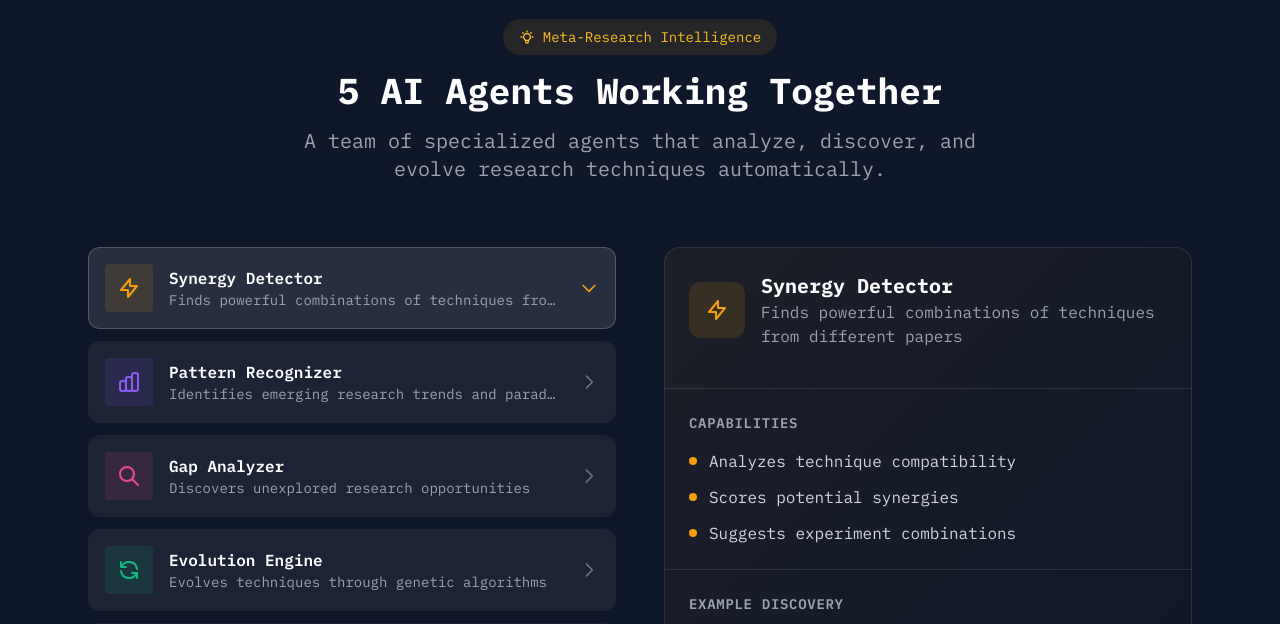
Test: MetaAgentFeature › Example Discoveries › should show example discovery for each agent
Note: Switch to Pattern Recognizer
Click the button "Pattern Recognizer": {"x": 352, "y": 382} [88, 341, 616, 423]
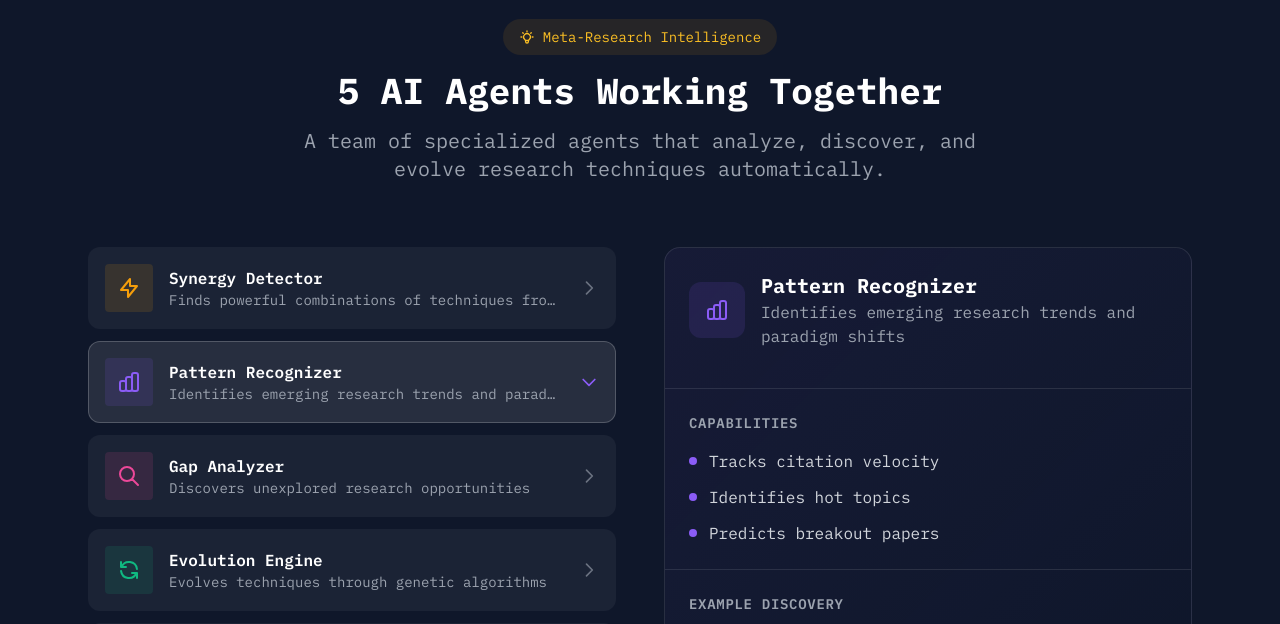
Note: Switch to Gap Analyzer
Click the button "Gap Analyzer": {"x": 352, "y": 476} [88, 435, 616, 517]
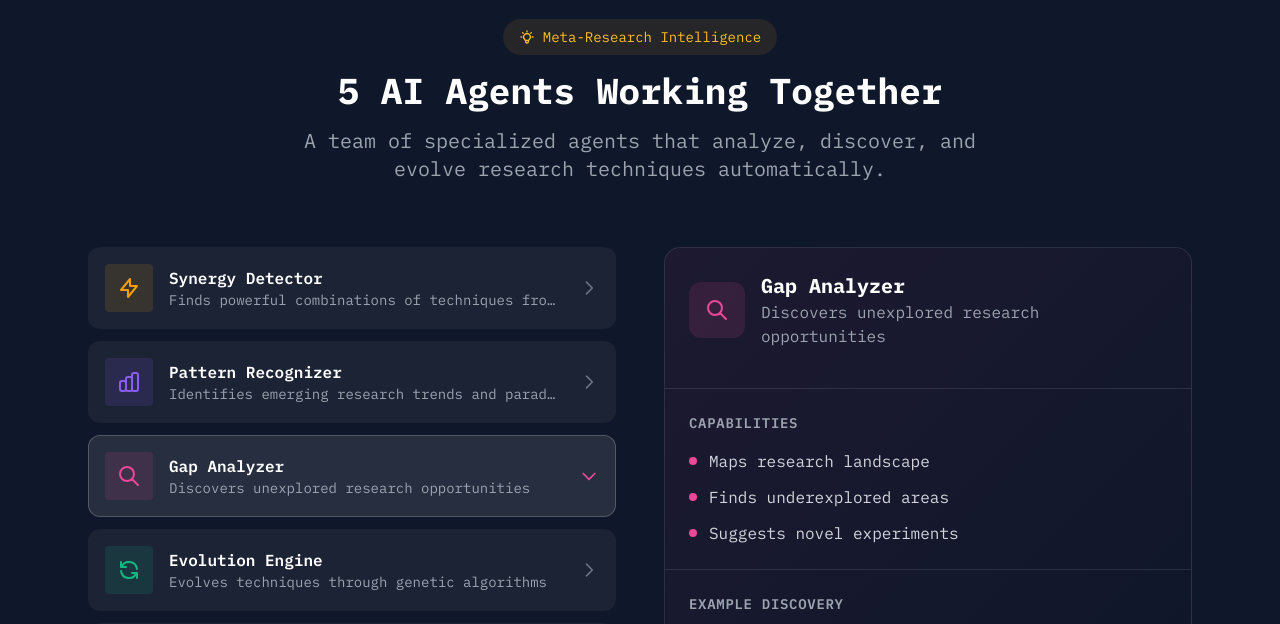
Note: Switch to Evolution Engine
Click the button "Evolution Engine": {"x": 352, "y": 570} [88, 529, 616, 611]
(page scrolled)
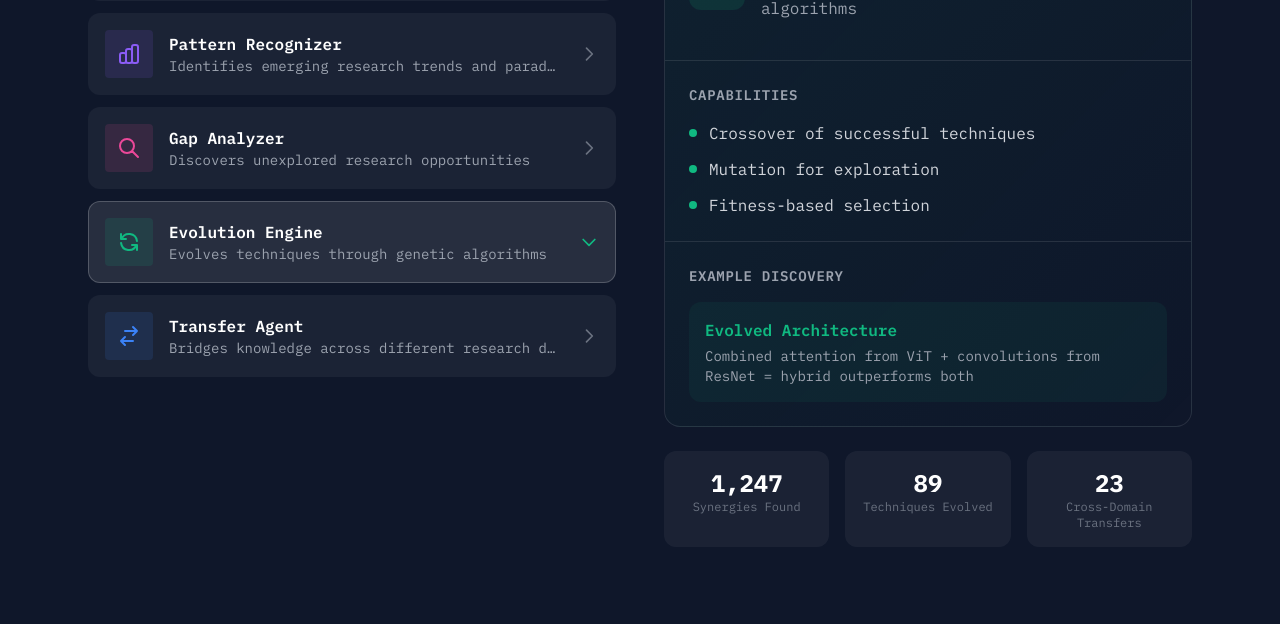
Result: the text "Evolved Architecture" is shown at [705, 320, 897, 340]
Note: Switch to Transfer Agent
Click the button "Transfer Agent": {"x": 352, "y": 336} [88, 295, 616, 377]
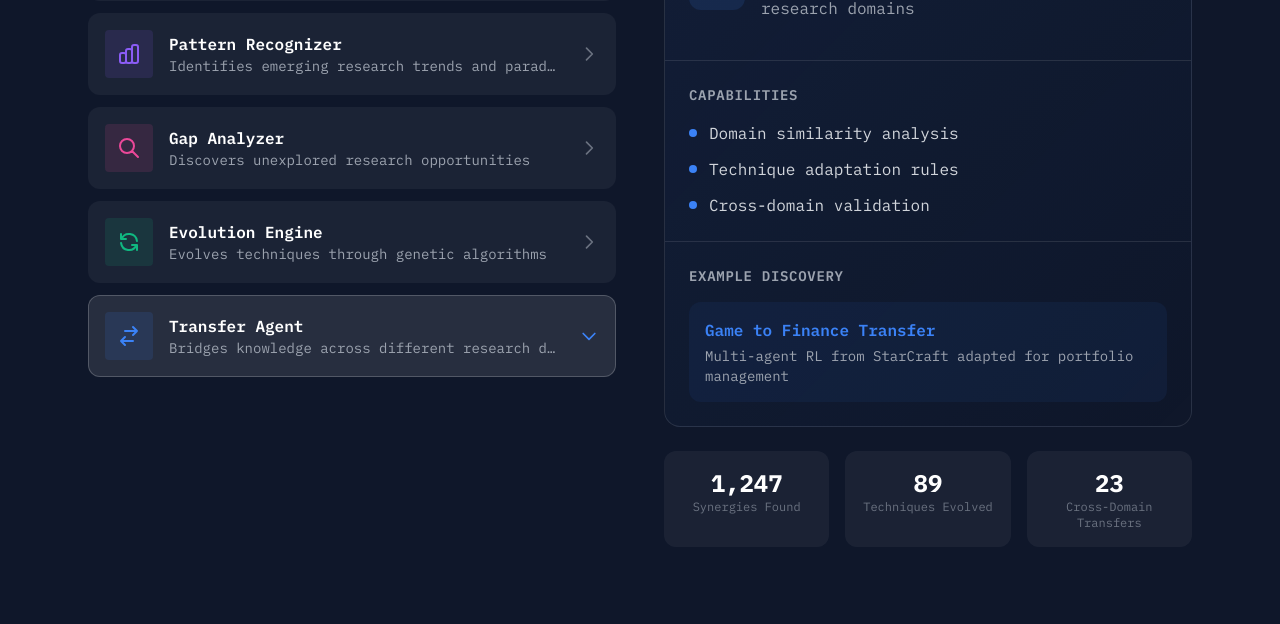
Result: the text "Game to Finance Transfer" is shown at [705, 320, 935, 340]
